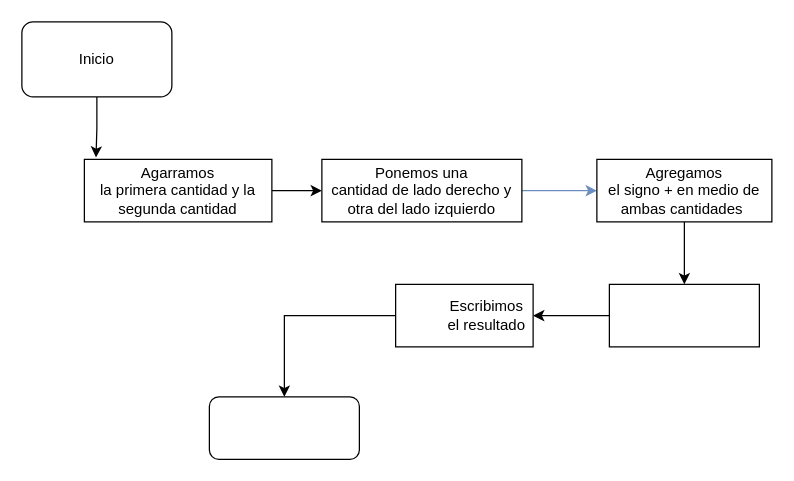
Image size: 794x481. Some labels were removed from this diagram. Each missing label, with the centre of its shape:
Fin: the point at 283,427
Operamos: the point at 683,315
